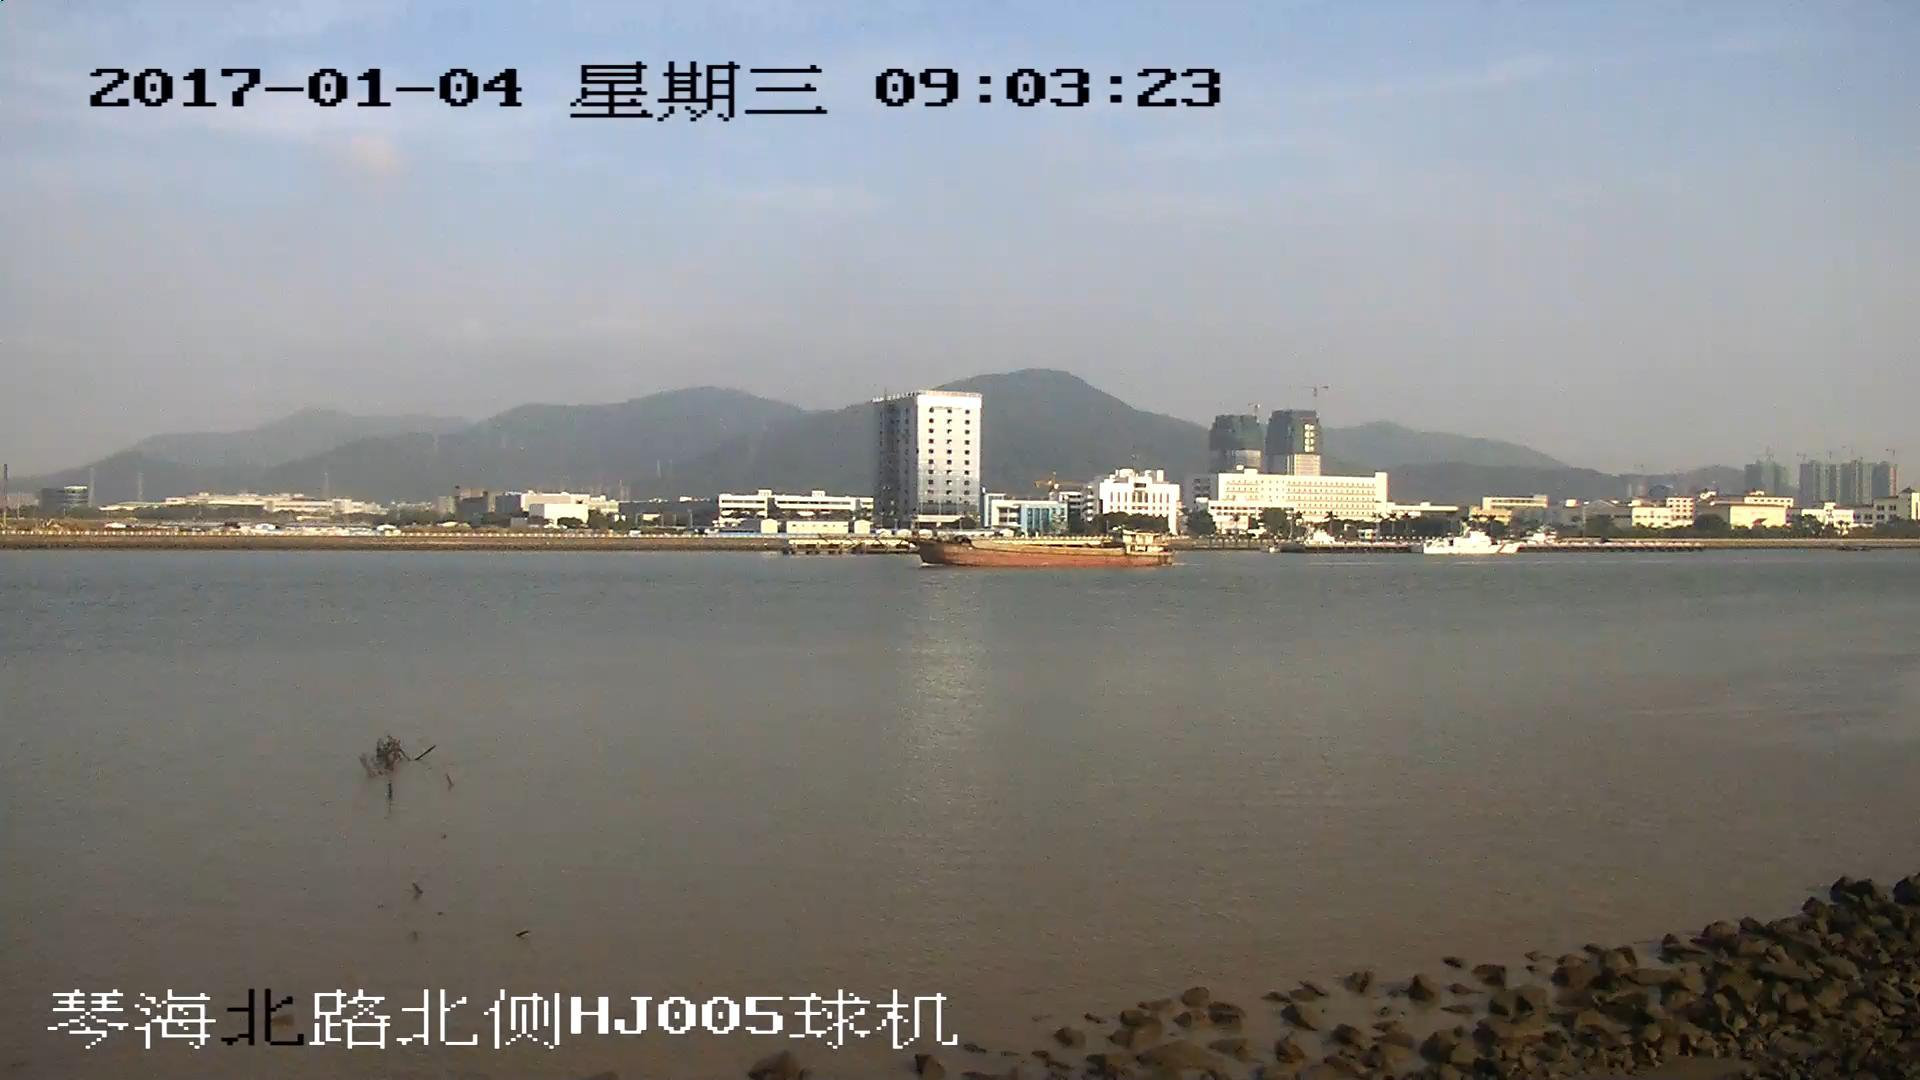Ship: (922, 531, 1178, 568)
